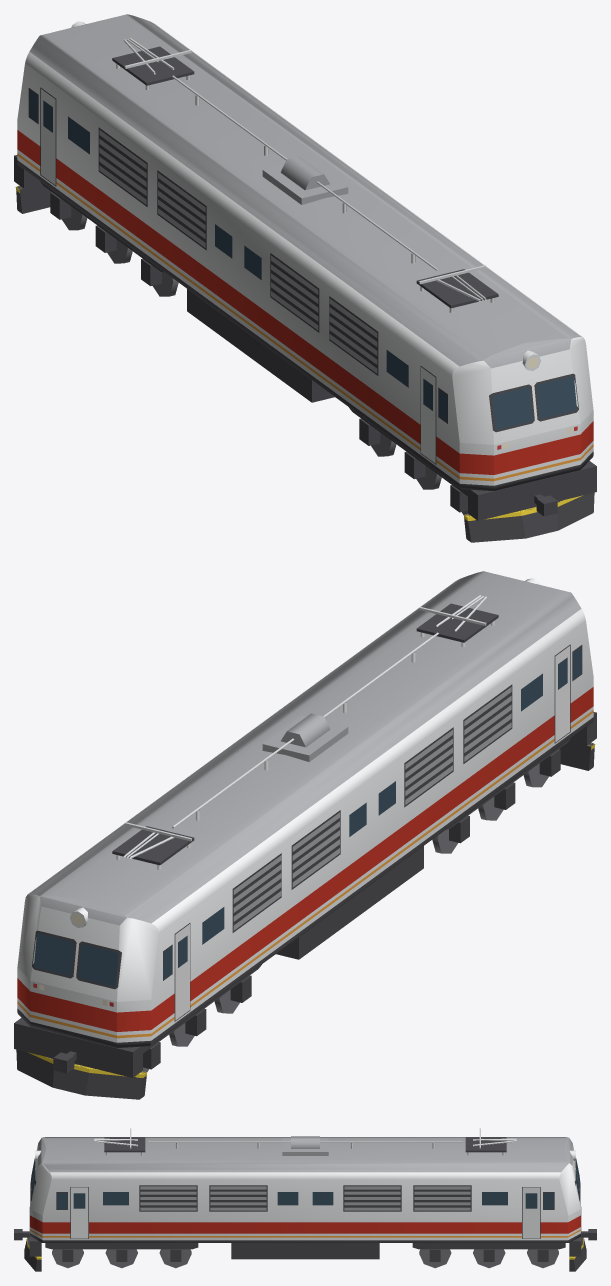
3 renders of one model, top to bottom at view 1: azimuth 30°, elevation 25°; view 2: azimuth 150°, elevation 25°; view 3: azimuth 270°, elevation 25°, orthographic. The views are drawn at different scales.
Visible parts, largest first — view 1: 394; view 2: 394; view 3: 394.
Boxes of the visible parts, x1,y1,x2,y2 form: 394: (14, 14, 596, 542); 394: (14, 571, 596, 1099); 394: (14, 1128, 596, 1271).
Bounding box in the file's own units: 3.17 × 4.54 × 20.
